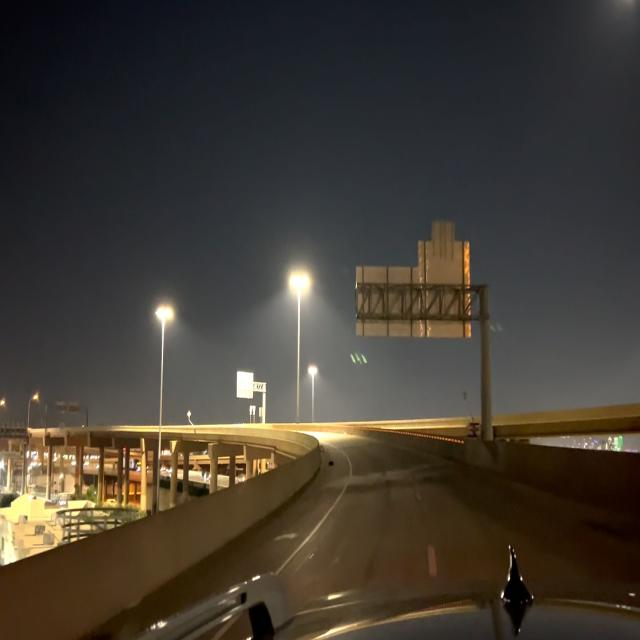back-of-sign: (357, 266, 471, 339), (420, 241, 471, 266), (434, 221, 456, 237)
